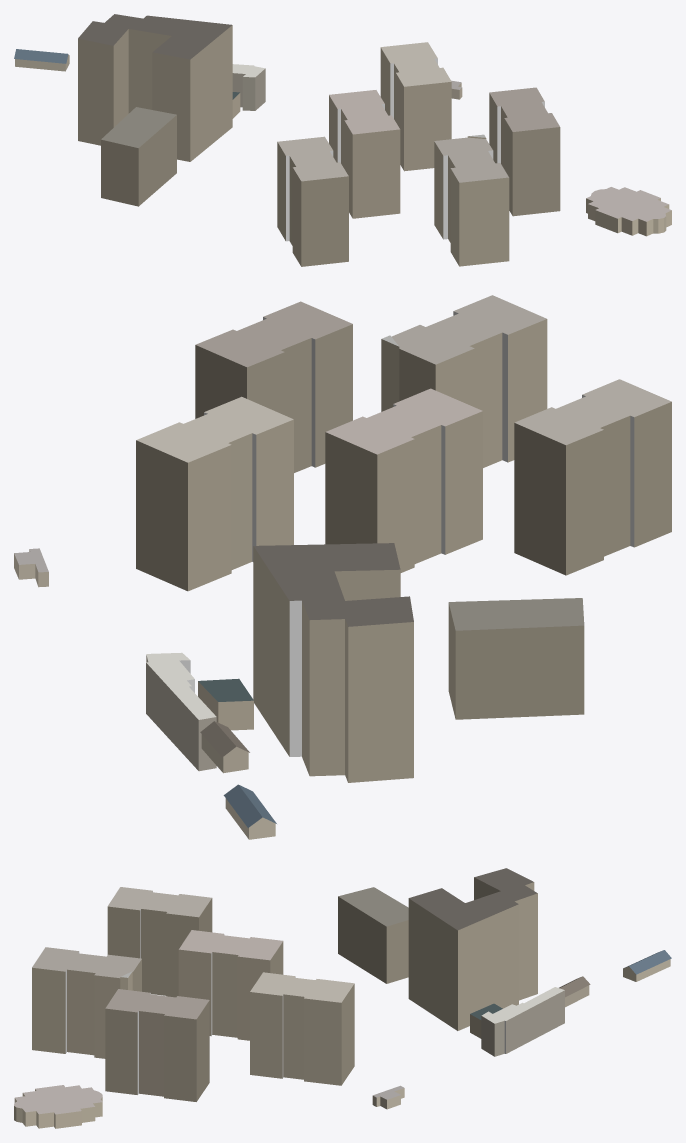
3 renders of one model, top to bottom at view 1: azimuth 30°, elevation 25°; view 2: azimuth 150°, elevation 25°; view 3: azimuth 270°, elevation 25°, orthographic. The views are drawn at different scales.
Parts seen in each view (by area): view 1: tuile; view 2: tuile; view 3: tuile.
Part boxes in pixels (box(x1,y1,x2,y2)): tuile: box(14, 14, 671, 266); tuile: box(14, 295, 671, 839); tuile: box(14, 868, 671, 1128).
Bounding box in the file's own units: 164 × 40.78 × 239.
